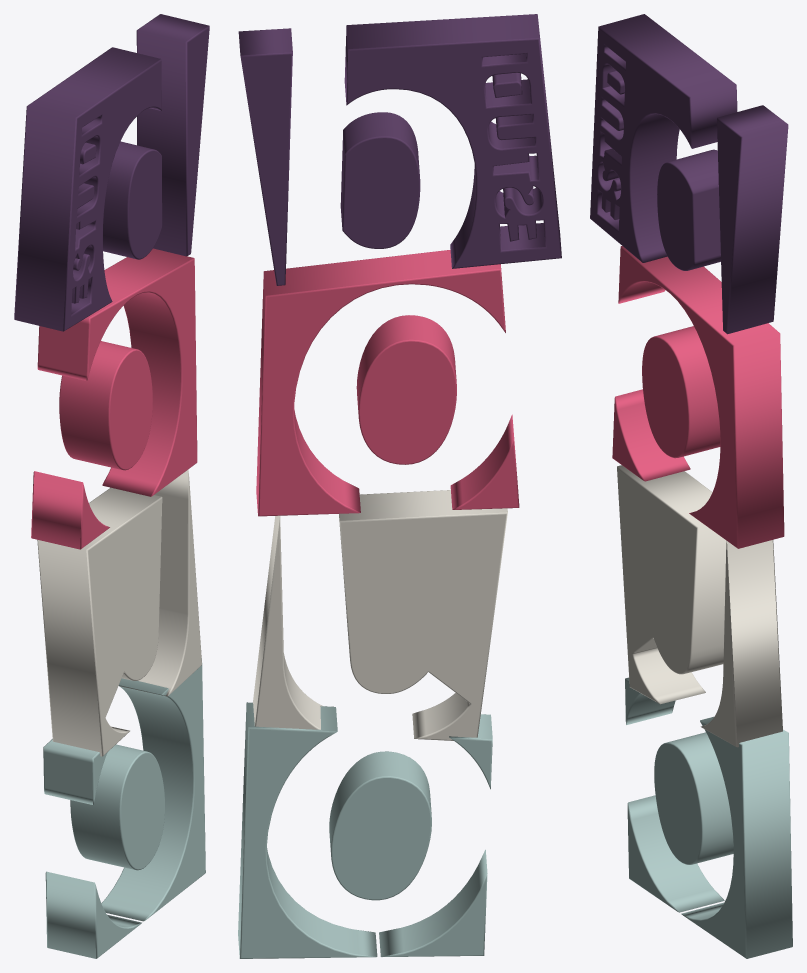
The model's file is Lletres_Dinamiques.fbx.
3 views of the same model, side by side, from view 1: azimuth 30°, elevation 25°; view 2: azimuth 150°, elevation 25°; view 3: azimuth 270°, elevation 25° (orthographic). The views are drawn at different scales.
Parts seen in each view (by area): view 1: Dinamica_Lletra_D, Dinamica_Lletra_2, Dinamica_Lletra_J, Dinamica_LLetra_O; view 2: Dinamica_Lletra_D, Dinamica_Lletra_2, Dinamica_Lletra_J, Dinamica_LLetra_O; view 3: Dinamica_Lletra_D, Dinamica_Lletra_J, Dinamica_Lletra_2, Dinamica_LLetra_O.
Part boxes in pixels (x1=…): Dinamica_Lletra_D: x1=14, y1=14, x2=209, y2=331; Dinamica_Lletra_2: x1=31, y1=248, x2=197, y2=549; Dinamica_Lletra_J: x1=37, y1=470, x2=201, y2=756; Dinamica_LLetra_O: x1=43, y1=658, x2=205, y2=958; Dinamica_Lletra_D: x1=238, y1=14, x2=561, y2=285; Dinamica_Lletra_2: x1=256, y1=249, x2=519, y2=516; Dinamica_Lletra_J: x1=253, y1=490, x2=507, y2=740; Dinamica_LLetra_O: x1=238, y1=702, x2=492, y2=958; Dinamica_Lletra_D: x1=590, y1=14, x2=788, y2=334; Dinamica_Lletra_J: x1=617, y1=465, x2=782, y2=747; Dinamica_Lletra_2: x1=612, y1=246, x2=784, y2=548; Dinamica_LLetra_O: x1=625, y1=677, x2=792, y2=958.
Size of the model in its own units: 11.8 by 38.89 by 8.56.
